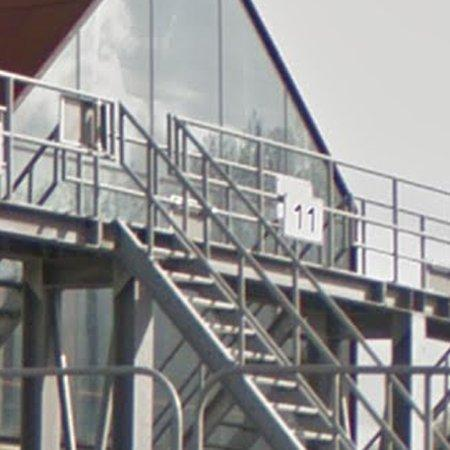stairs: (114, 221, 358, 450)
